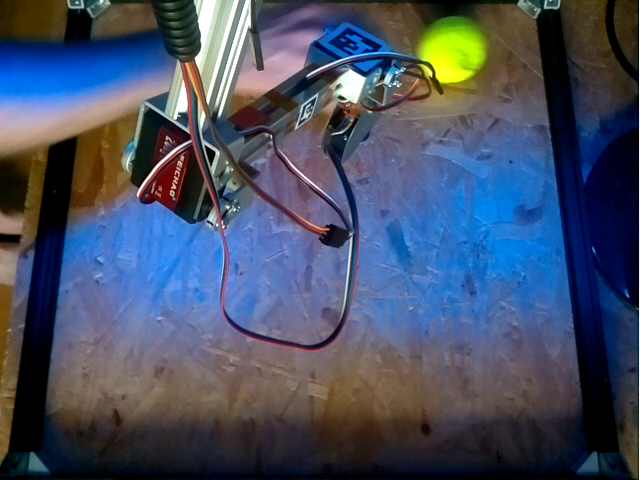tennis_ball: (416, 15, 488, 83)
